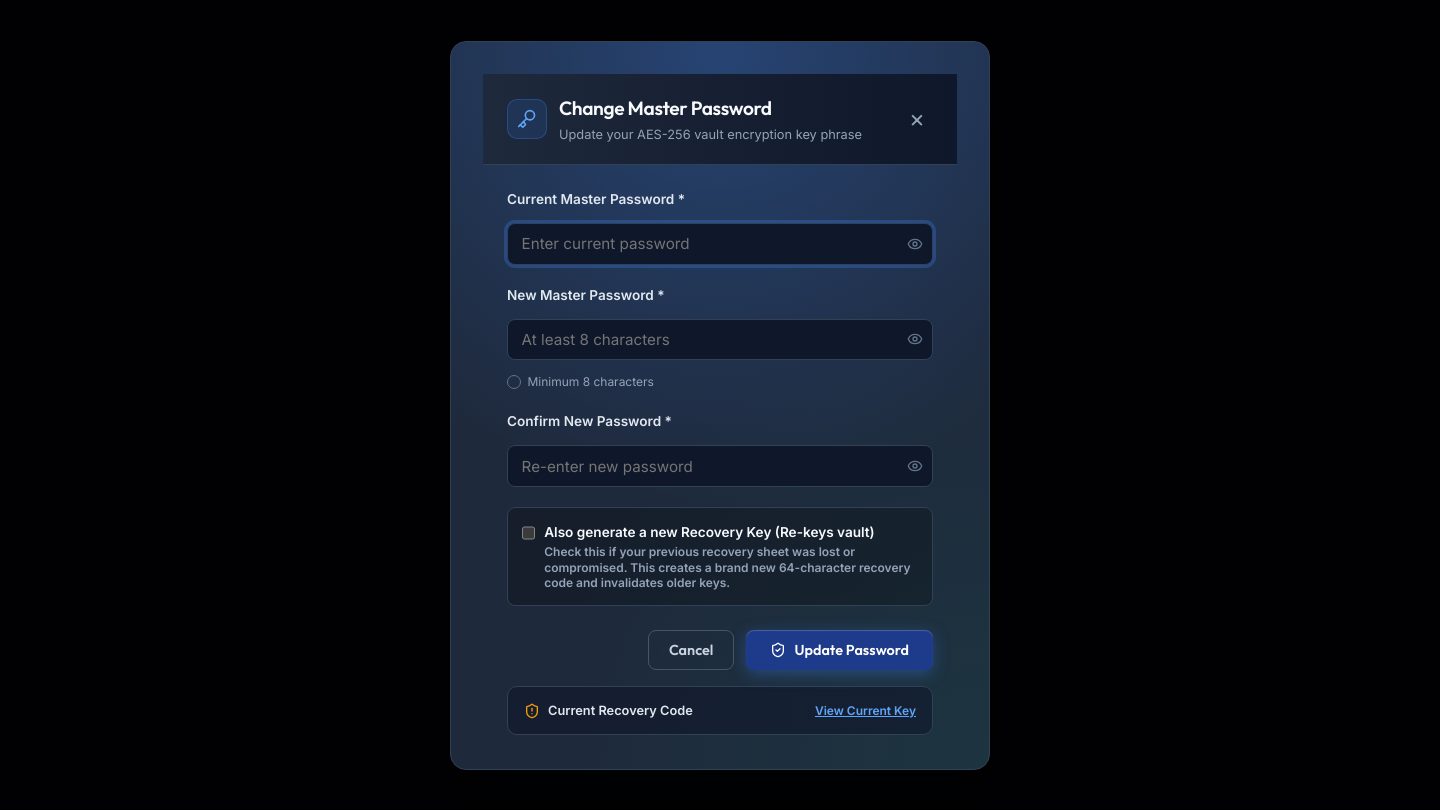
ChangePasswordModal Component › submits with regenerateKey option and displays new recovery key screen
The image size is (1440, 810).
Type "currentPass123" into the password field with placeholder "Enter current password" at (720, 244), box [507, 223, 933, 265]
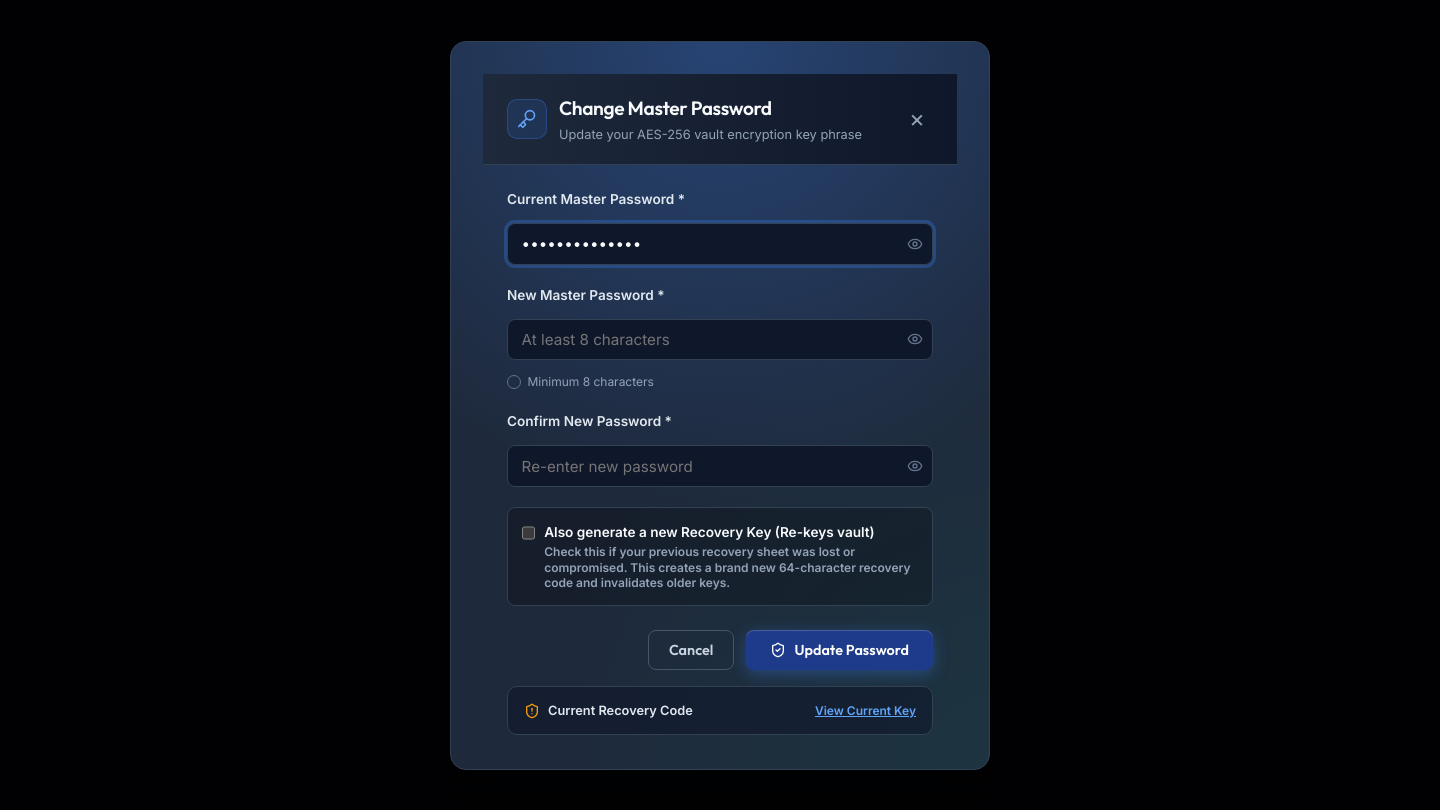
Type "newSecurePass456" into the password field with placeholder "At least 8 characters" at (720, 340), box [507, 319, 933, 360]
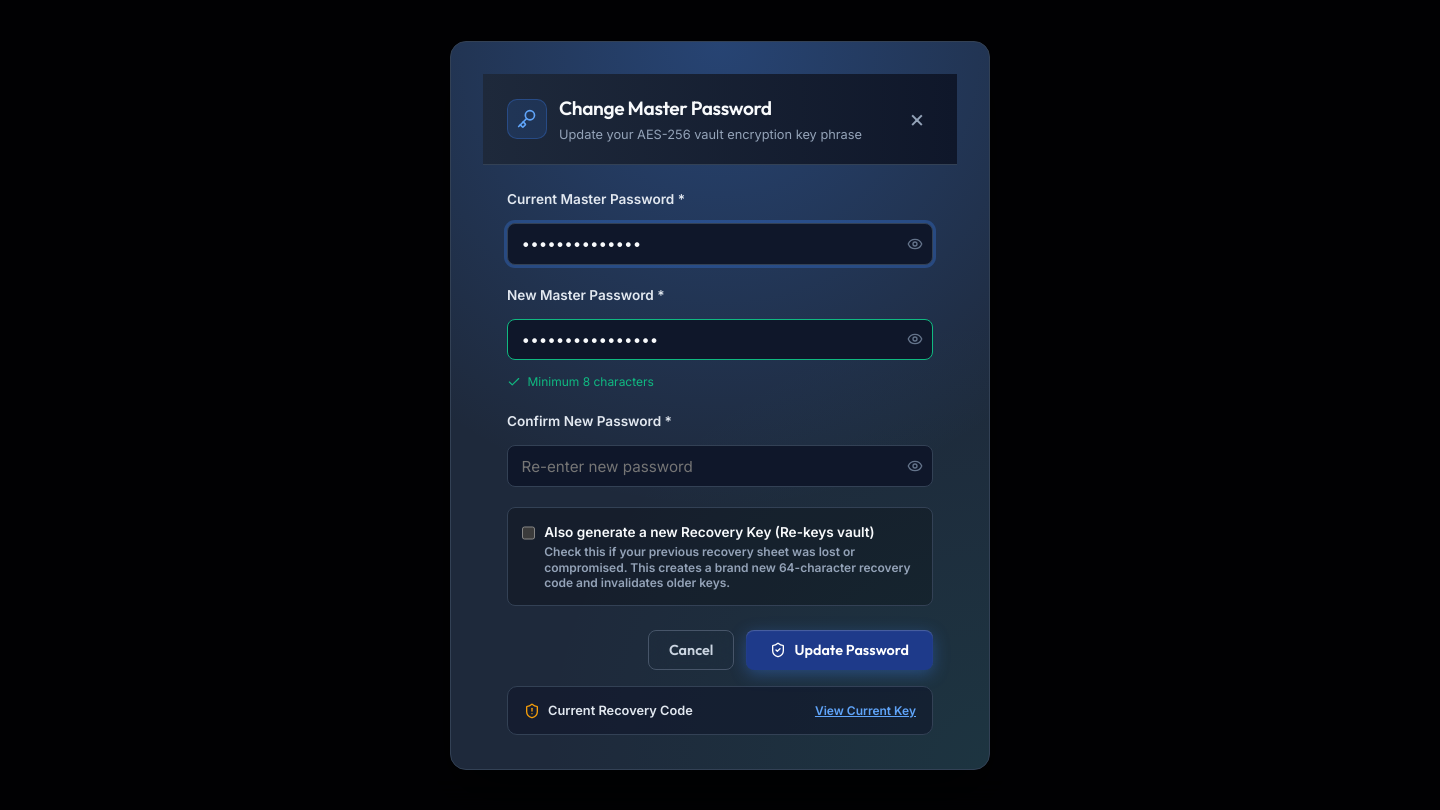
Type "newSecurePass456" into the password field with placeholder "Re-enter new password" at (720, 466), box [507, 445, 933, 487]
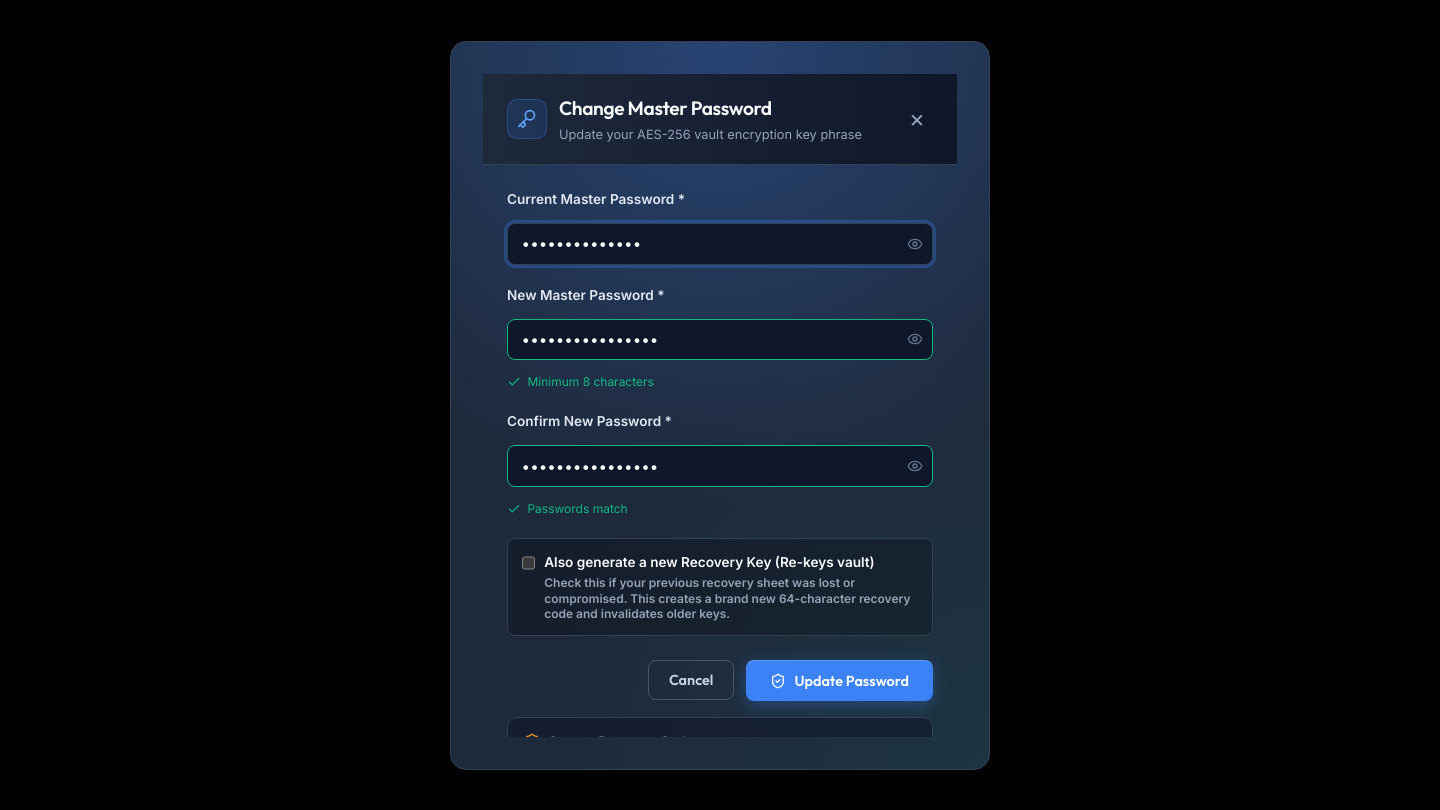
# Check regenerate key box
Click the checkbox labelled "Also generate a new Recovery Key" at (528, 563), box [522, 555, 535, 571]
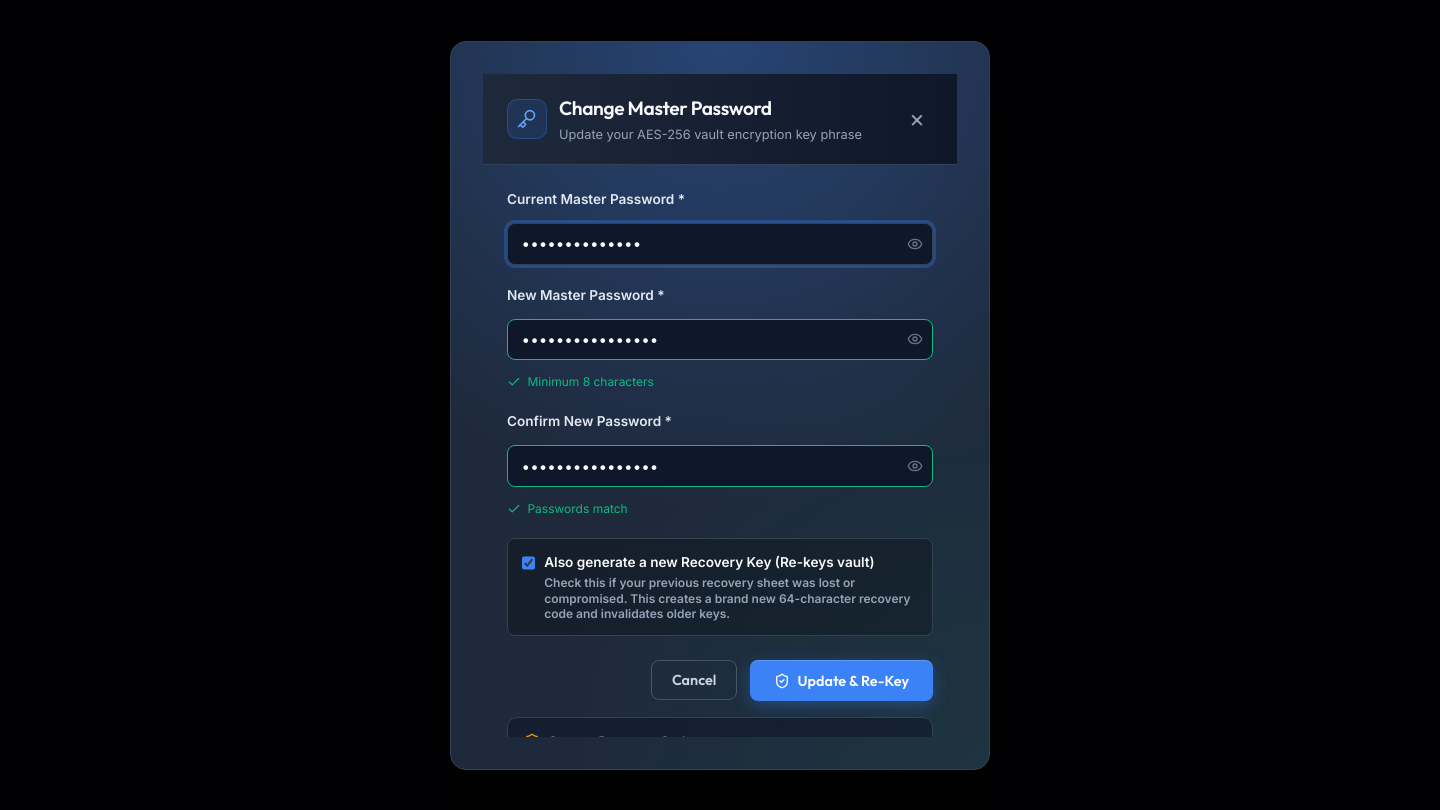
Click the button "Update & Re-Key" at (841, 681), box [750, 660, 933, 701]
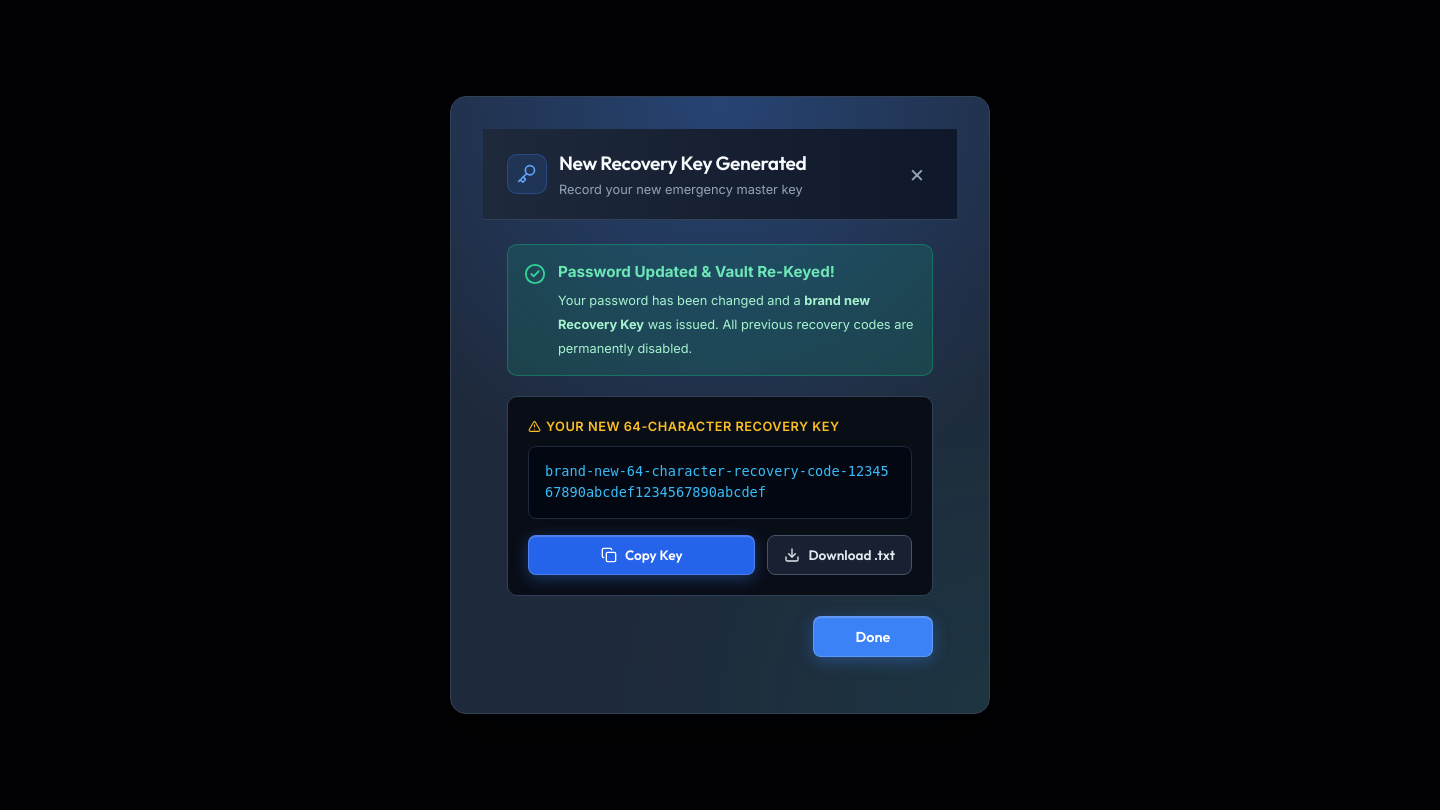
Now the text "Password Updated & Vault Re-Keyed!" is shown, box [558, 262, 835, 281]
Now the text "brand-new-64-character-recovery-code-1234567890abcdef1234567890abcdef" is shown, box [528, 446, 912, 519]
